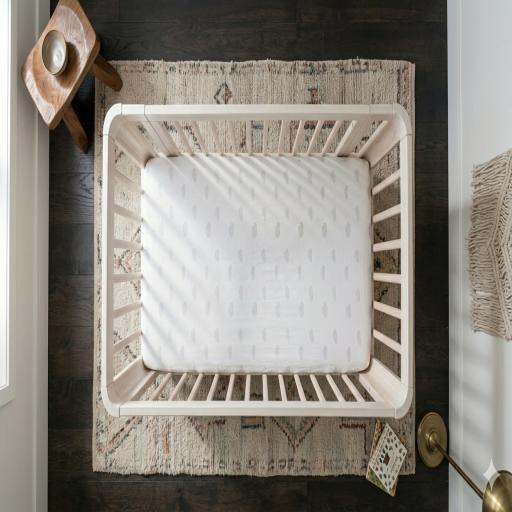crib: (102, 104, 413, 417)
